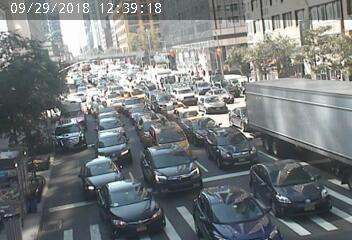car: (208, 191, 258, 230), (105, 189, 154, 222), (269, 167, 318, 200), (151, 149, 199, 180), (96, 130, 129, 160), (216, 132, 245, 163), (155, 127, 192, 150), (59, 94, 88, 123), (184, 114, 210, 136), (87, 164, 115, 183), (56, 126, 81, 147), (140, 117, 171, 130), (100, 118, 123, 131), (131, 106, 157, 117), (177, 88, 199, 101), (193, 79, 214, 92), (232, 105, 246, 121), (203, 100, 222, 111), (214, 89, 229, 100), (106, 85, 124, 94), (121, 97, 141, 105)
